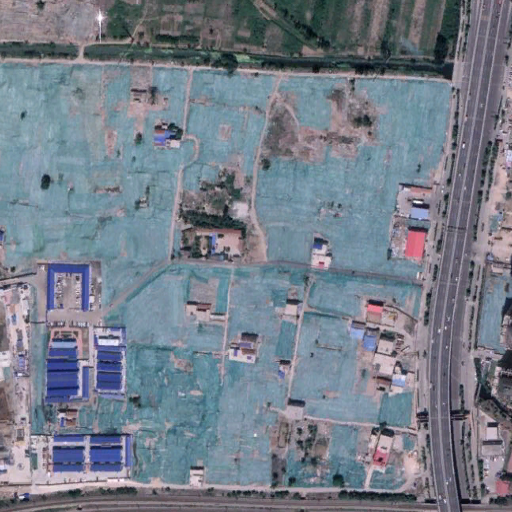cw: (6, 63, 451, 493)
